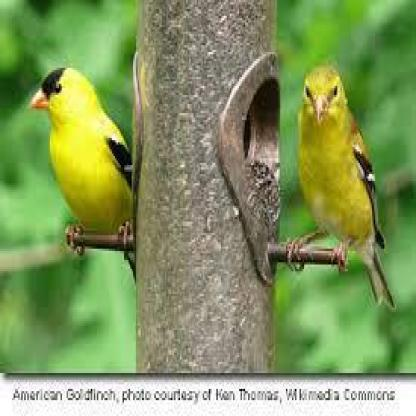other: (288, 47, 392, 270), (30, 57, 135, 236)
